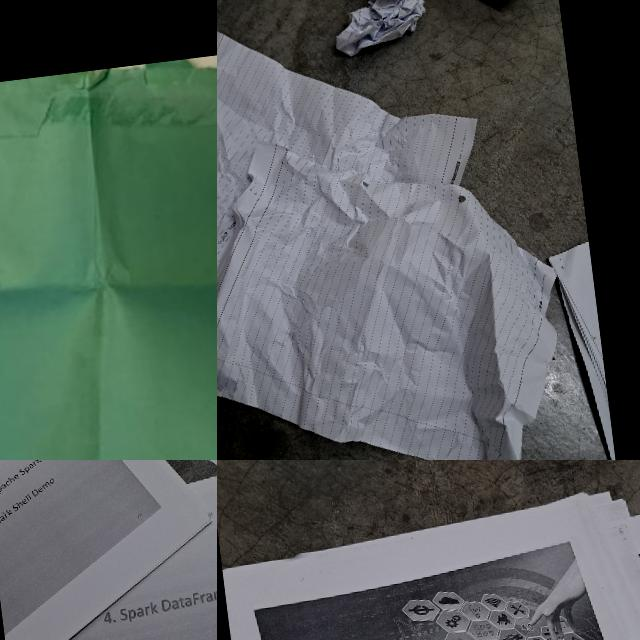papel: (217, 107, 586, 460), (0, 47, 217, 460), (217, 0, 494, 308), (217, 477, 640, 640), (0, 460, 217, 640), (544, 234, 618, 460), (327, 0, 432, 58)
papelão: (232, 0, 557, 30)
